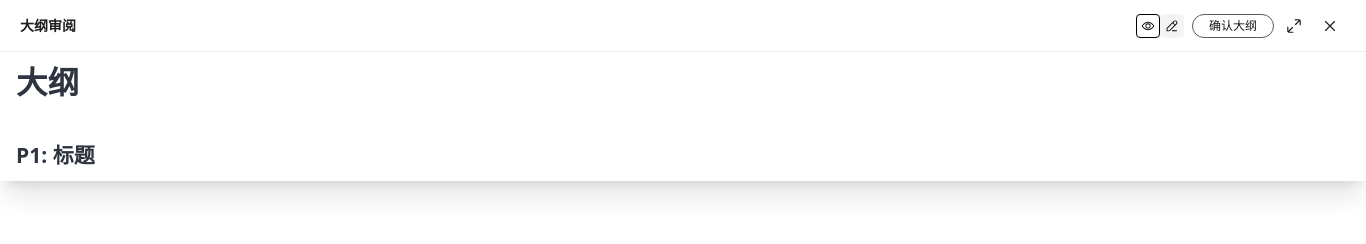
Test: OutlinePreviewPanel › error handling › shows error when missing pendingQuestion
Try to confirm - should show error
Click the button with test id "outline-preview-panel-confirm" at (1233, 26), box [1192,14,1274,38]
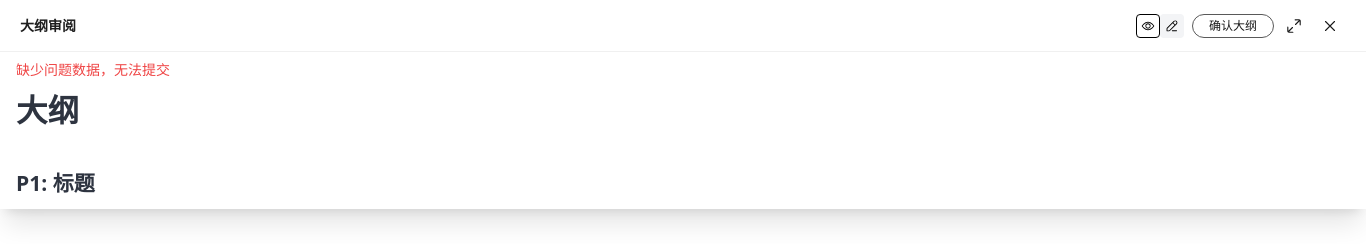
Now the text "缺少问题数据，无法提交" is shown, box [16,60,170,79]
